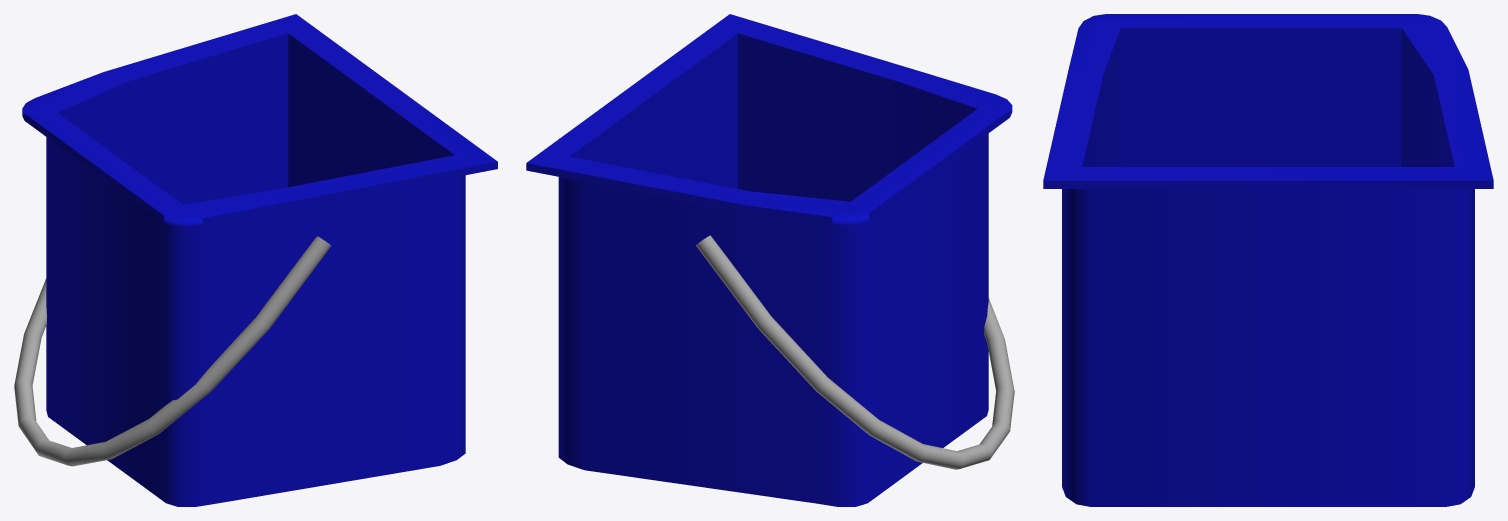
File: bucket_2.fbx
3 renders of one model, left to right at view 1: azimuth 30°, elevation 25°; view 2: azimuth 150°, elevation 25°; view 3: azimuth 270°, elevation 25°, orthographic. The views are drawn at different scales.
Visible parts, largest first — view 1: Cube.059, BézierCurve; view 2: Cube.059, BézierCurve; view 3: Cube.059.
Part boxes in pixels (box(x1,y1,x2,y2)): Cube.059: box(22, 14, 497, 506); BézierCurve: box(14, 236, 331, 466); Cube.059: box(526, 14, 1012, 506); BézierCurve: box(696, 235, 1014, 469); Cube.059: box(1043, 14, 1493, 506).
Bounding box in the file's own units: 39.29 × 31.06 × 38.05.
